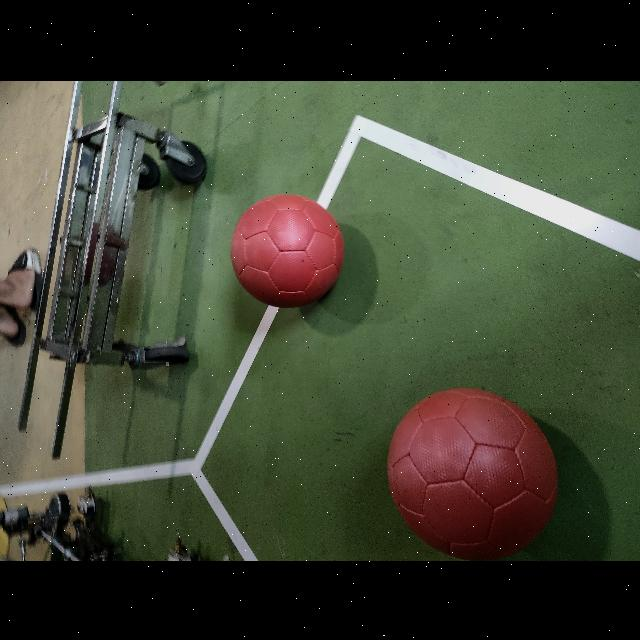R: (388, 388, 558, 560), (231, 194, 343, 306)
